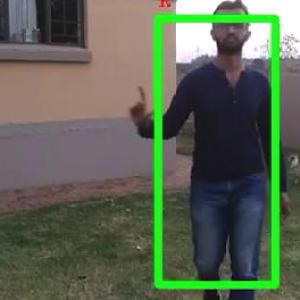land_hand: (125, 83, 164, 131)
